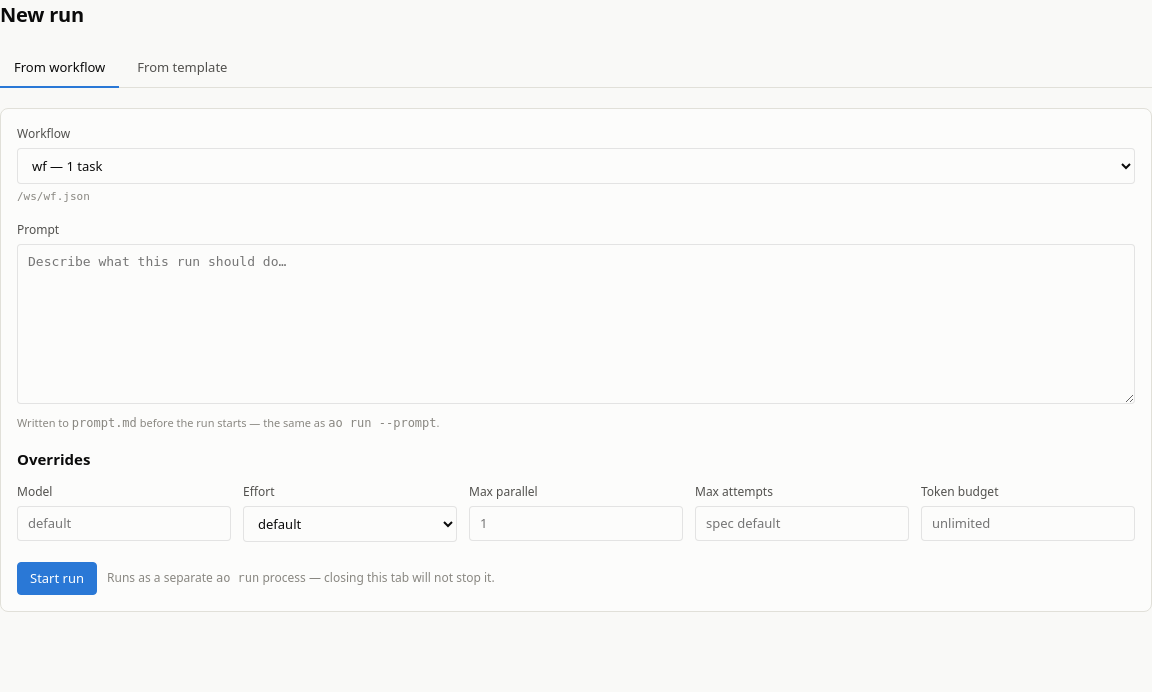
Scenario: NewRun overrides + load errors › sends typed overrides as typed values and drops cleared ones
Check: the button "Start run" is enabled, box [17, 562, 97, 595]
Type "opus" into the field labelled "Model" at (124, 523), box [17, 506, 231, 541]
Select "high" in the dropdown labelled "Effort" at (350, 524), box [243, 506, 457, 542]
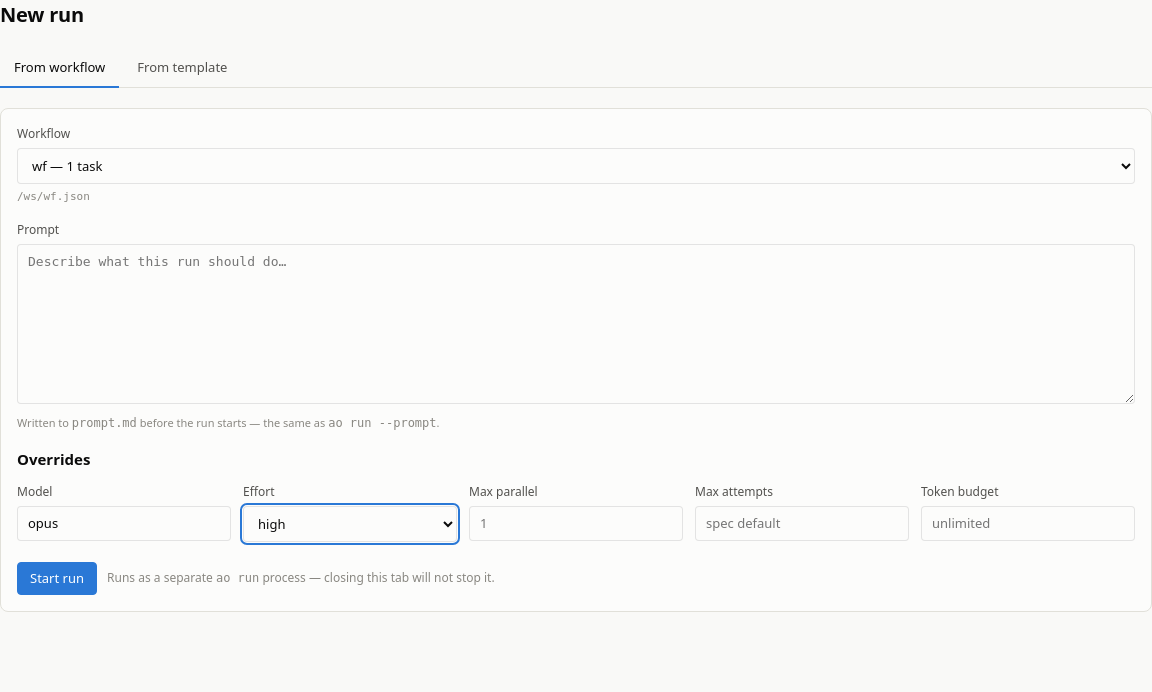
Type "3" into the number field labelled "Max parallel" at (576, 523), box [469, 506, 683, 541]
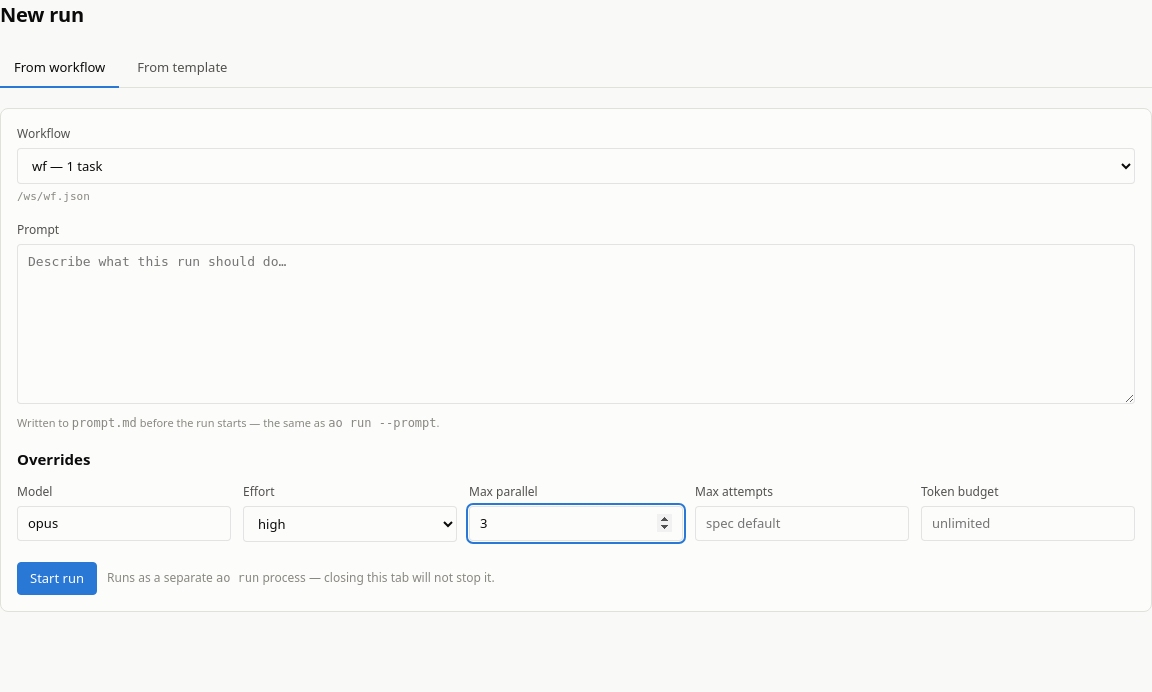
Type "2" into the number field labelled "Max attempts" at (802, 523), box [695, 506, 909, 541]
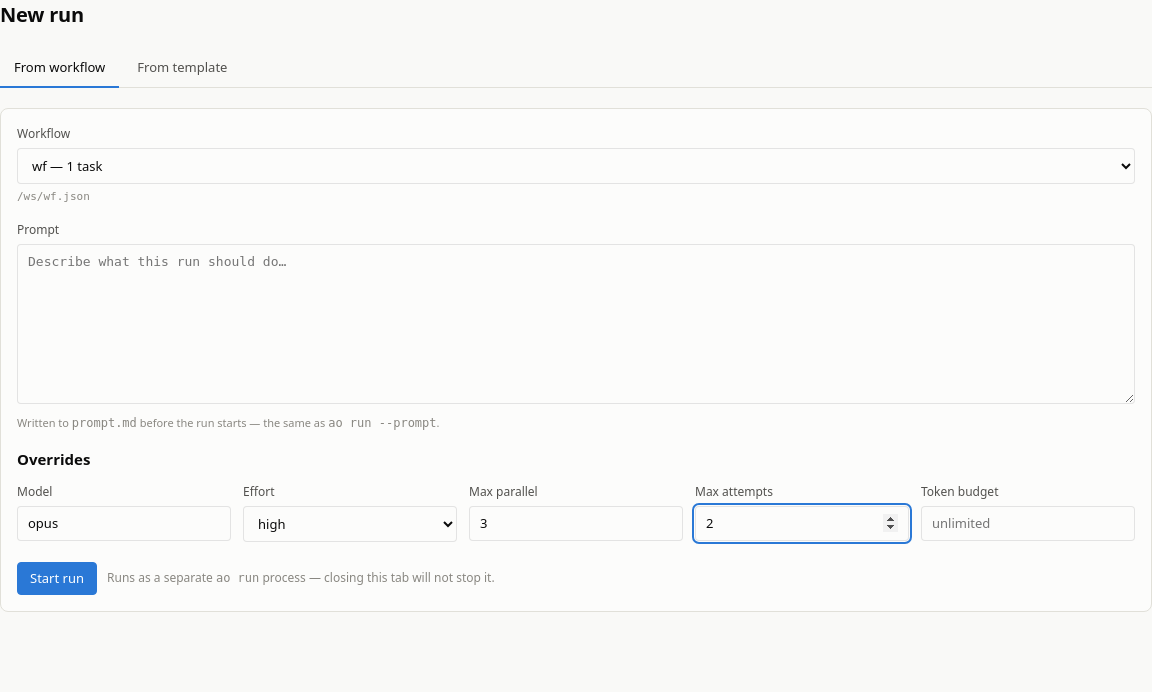
Type "9" into the number field labelled "Token budget" at (1028, 523), box [921, 506, 1135, 541]
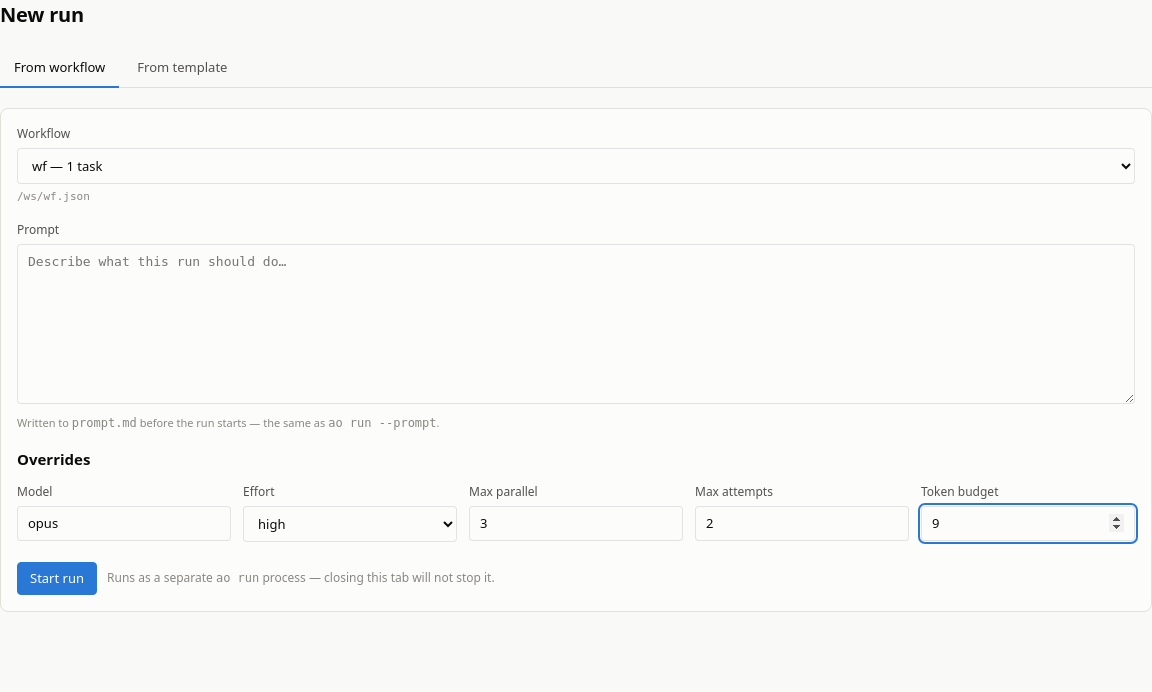
Clear the field labelled "Model" at (124, 523), box [17, 506, 231, 541]
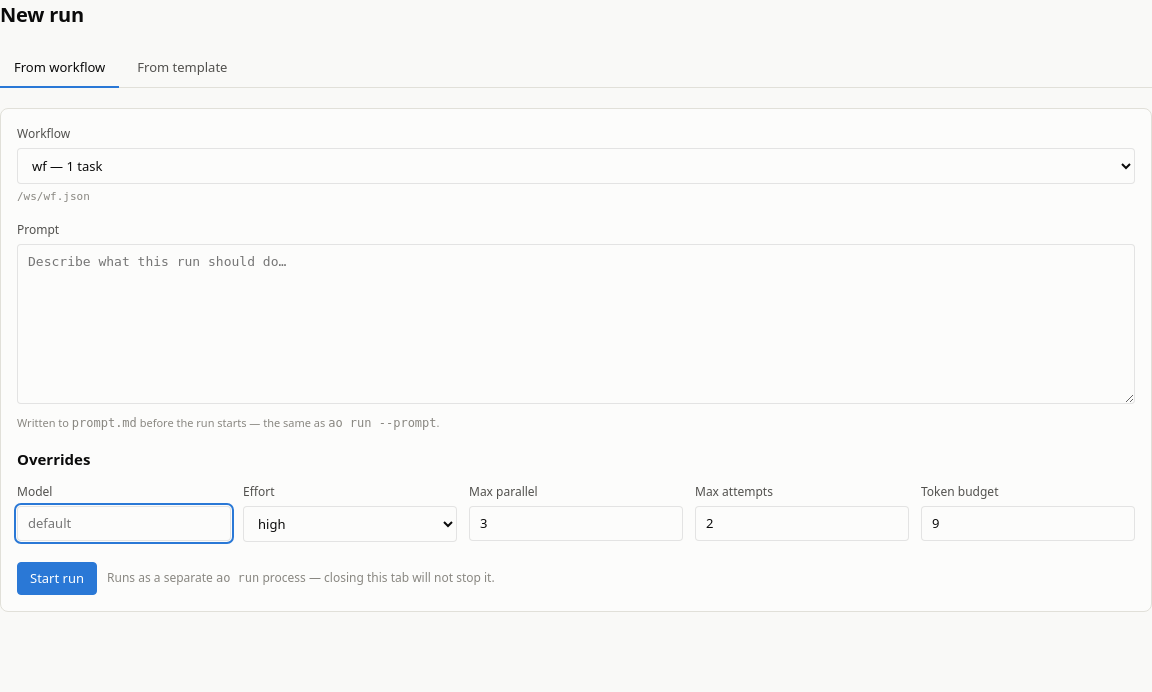
Click the button "Start run" at (57, 578), box [17, 562, 97, 595]
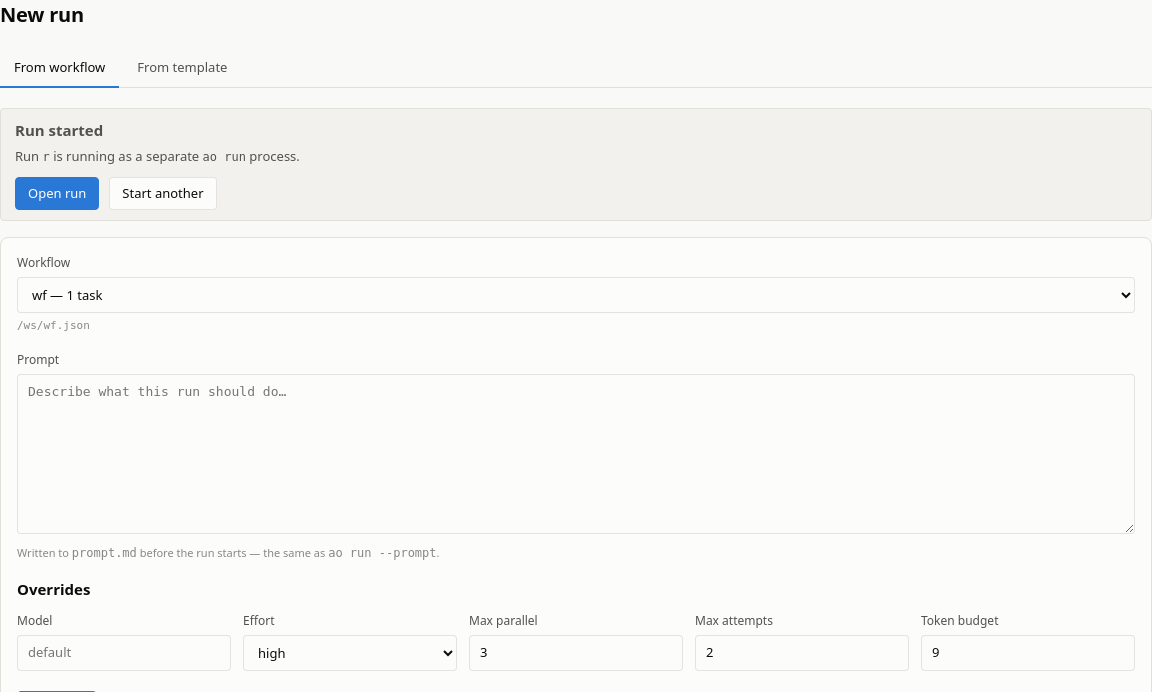
Check: the heading "Run started" is shown, box [15, 120, 103, 140]
